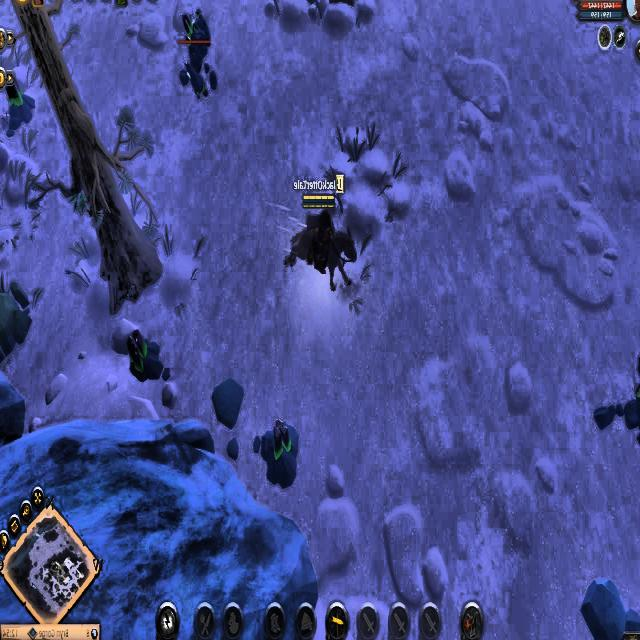sandstone: (0, 275, 34, 370)
tinore: (259, 419, 304, 488), (125, 326, 166, 386), (2, 66, 34, 140)
